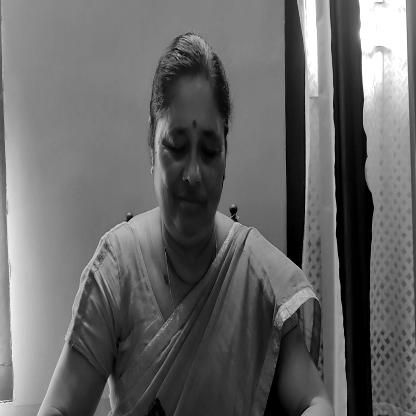Normal: (153, 36, 221, 232)
